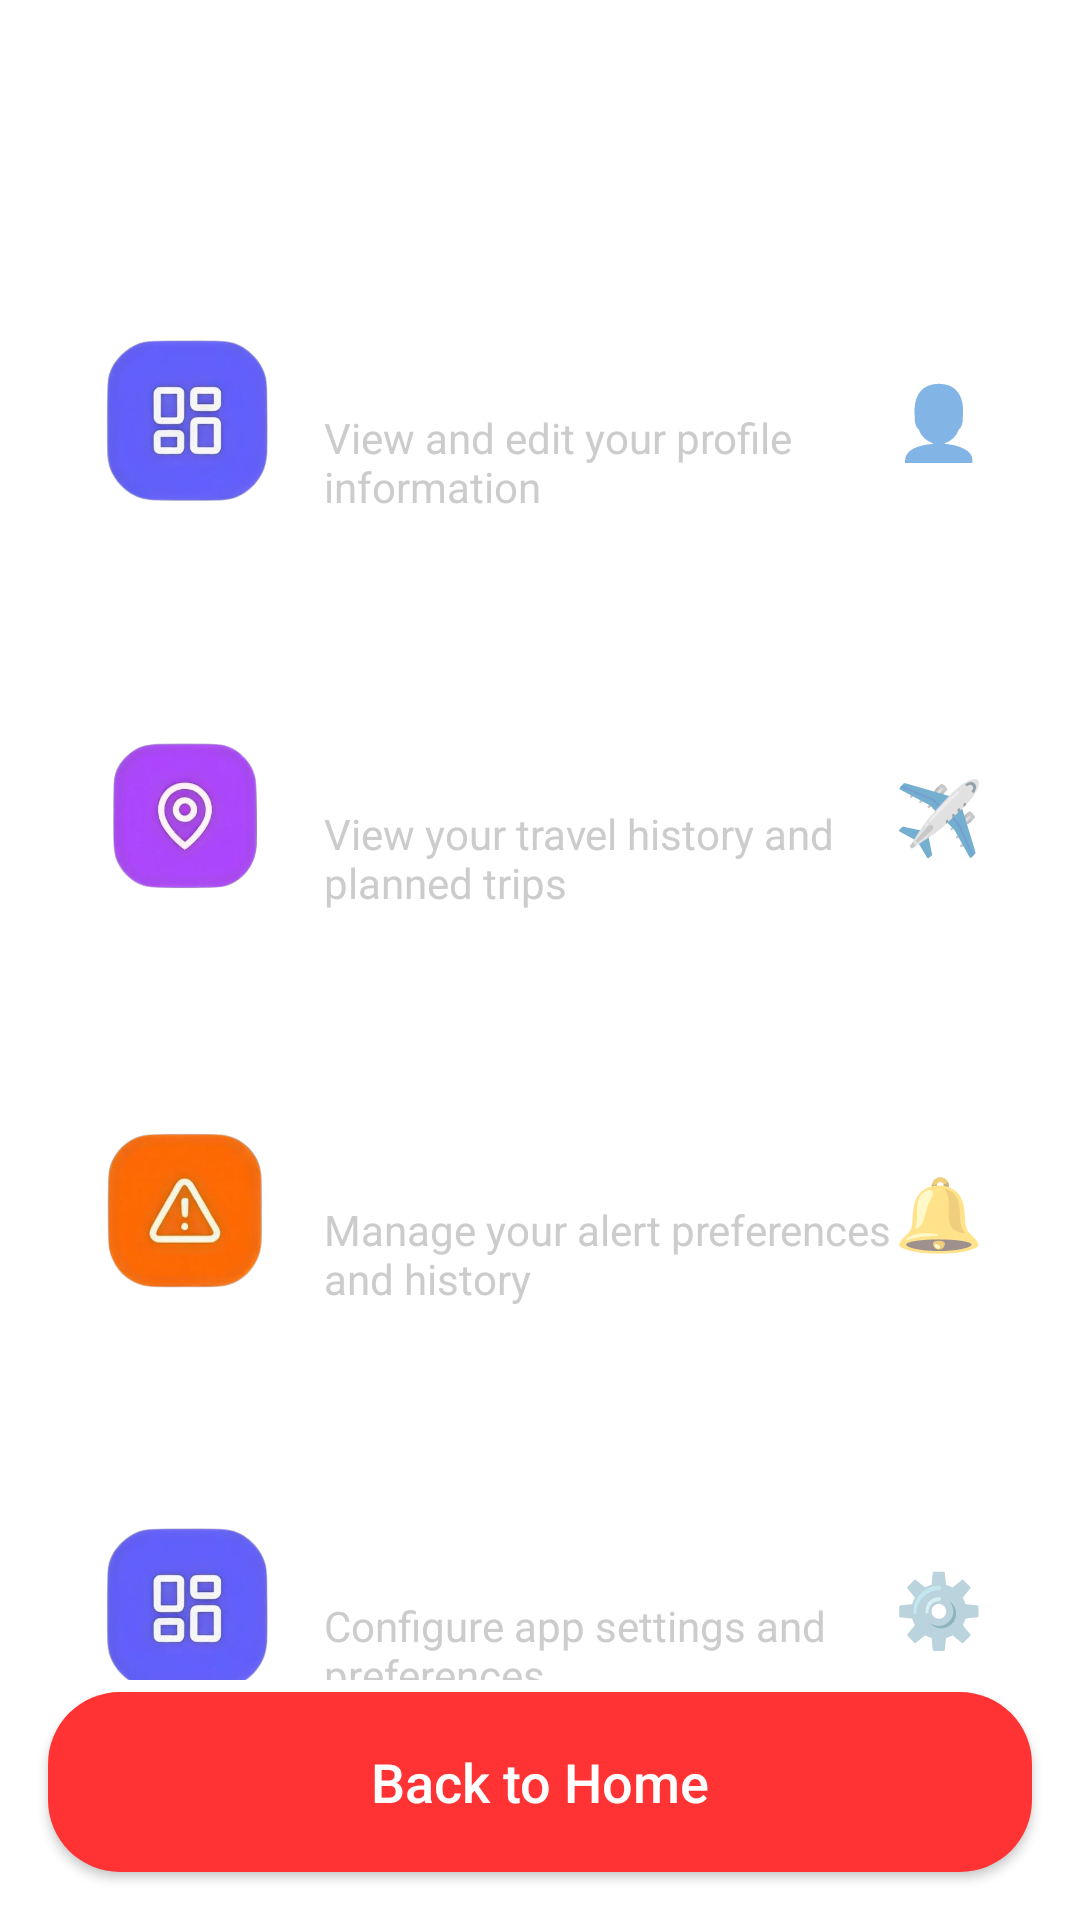

Screen size 1080px x 1920px. Icon name, then its box in pixels as bbox=(x1, y1, x2, y2):
dashboard: bbox=(107, 340, 268, 501), bbox=(107, 1528, 268, 1680)
high risk: bbox=(108, 1134, 262, 1287)
location: bbox=(113, 743, 257, 888)
